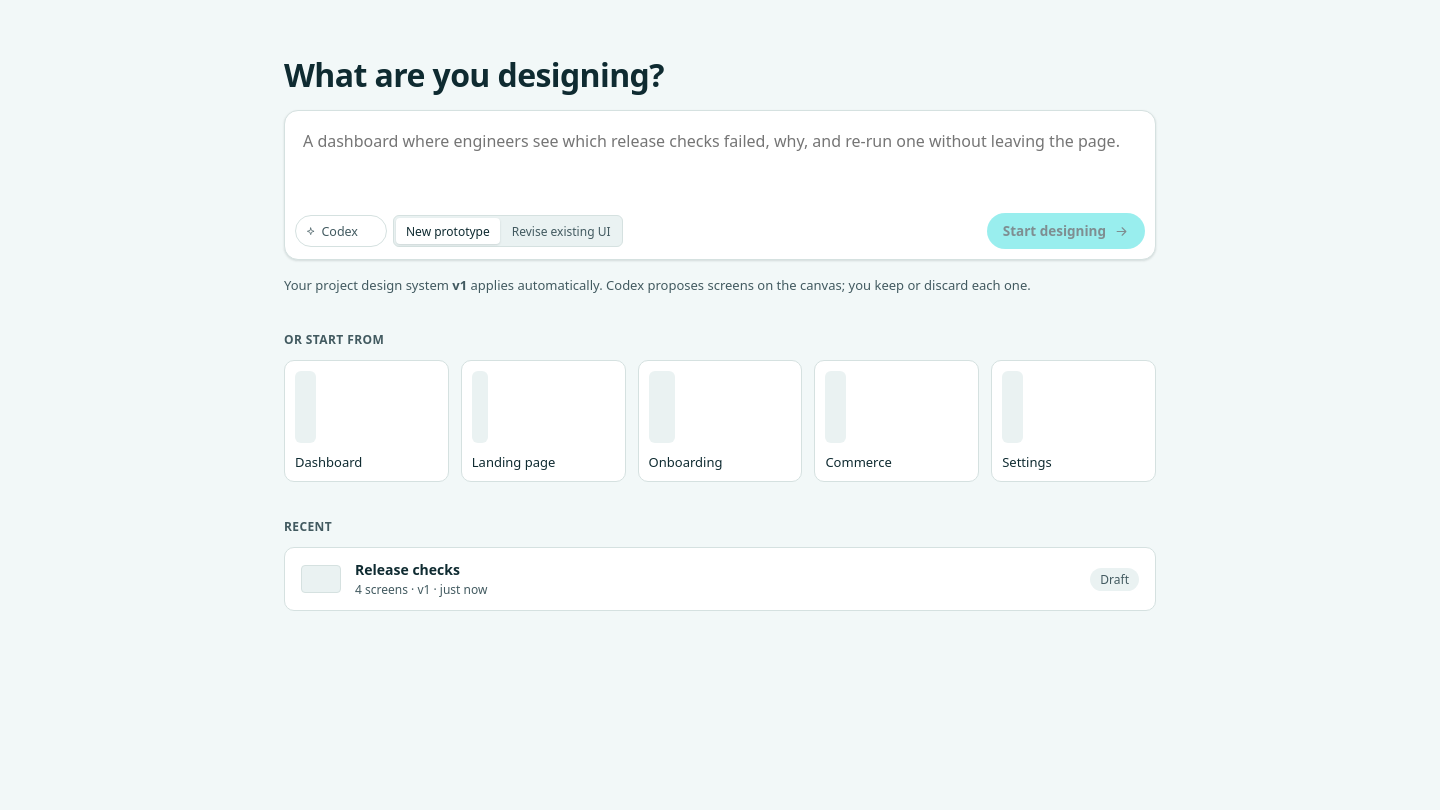
Test: Designer › starts a design from one sentence, never offers relay agents, and hands the prompt to the agent
Expected: the heading "What are you designing?" is shown, [284,53,664,96]
Expected: the text "Release checks" is shown, [355,560,460,579]
Replace the text in the text box named "Describe the interface" with "A dashboard where engineers see which release checks failed and re-run one.": (720, 159) [285,111,1155,207]
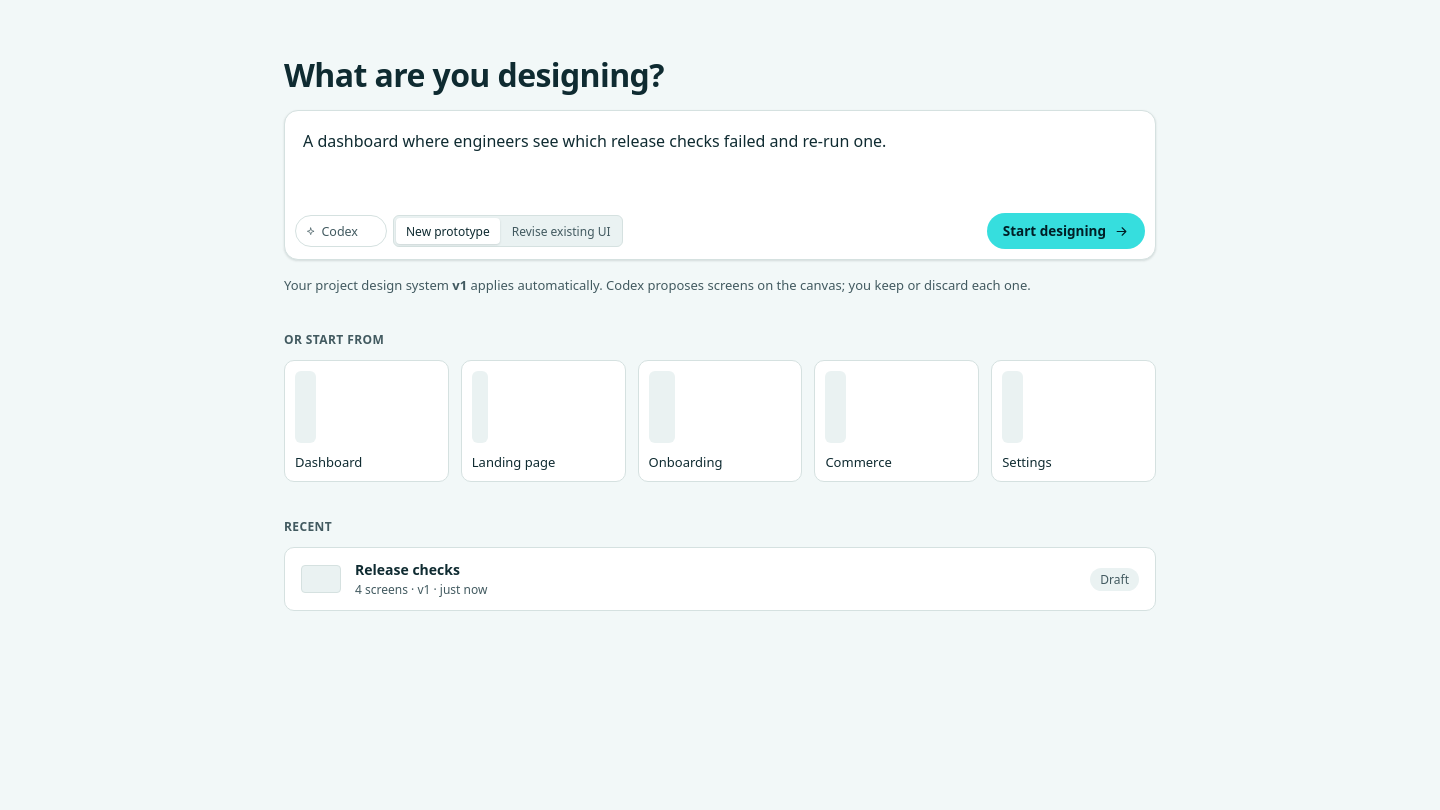
Click the button "Start designing": (1066, 231) [987,213,1145,249]
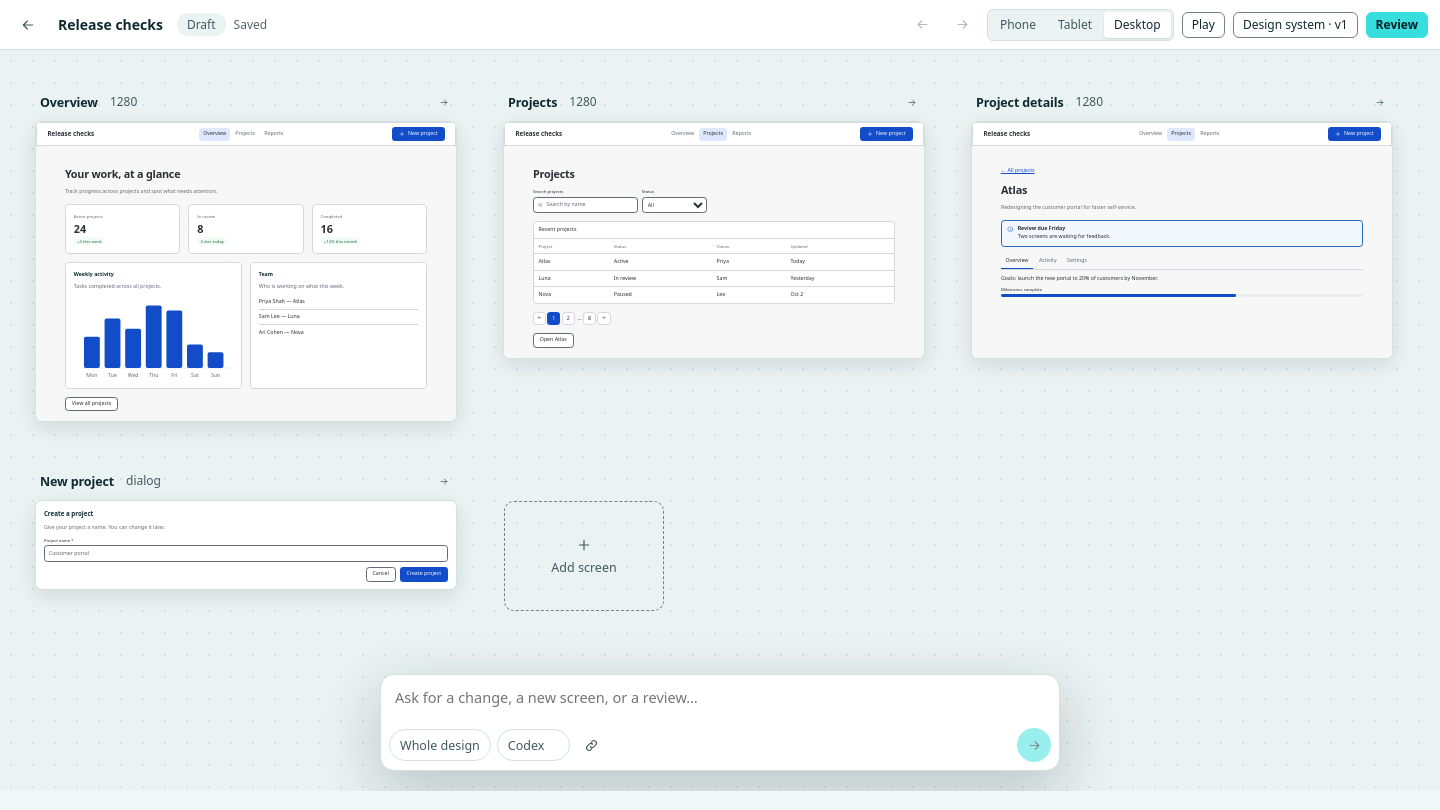
Expected: the element named "Canvas" is shown
